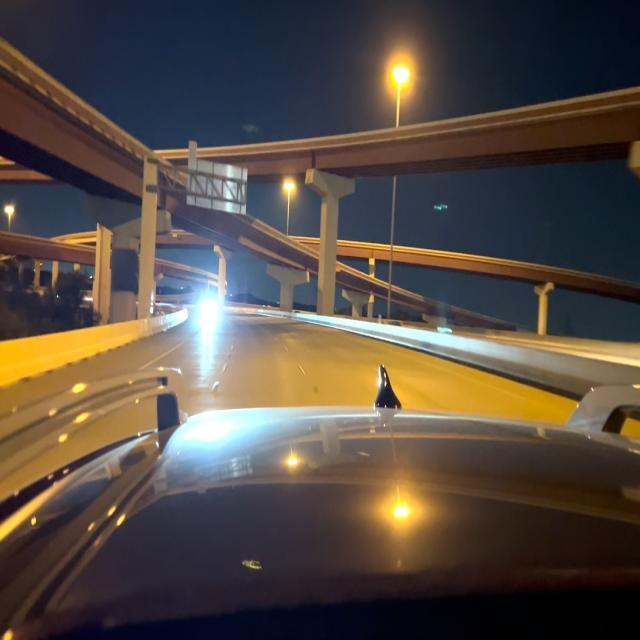back-of-sign: (190, 164, 247, 215)
